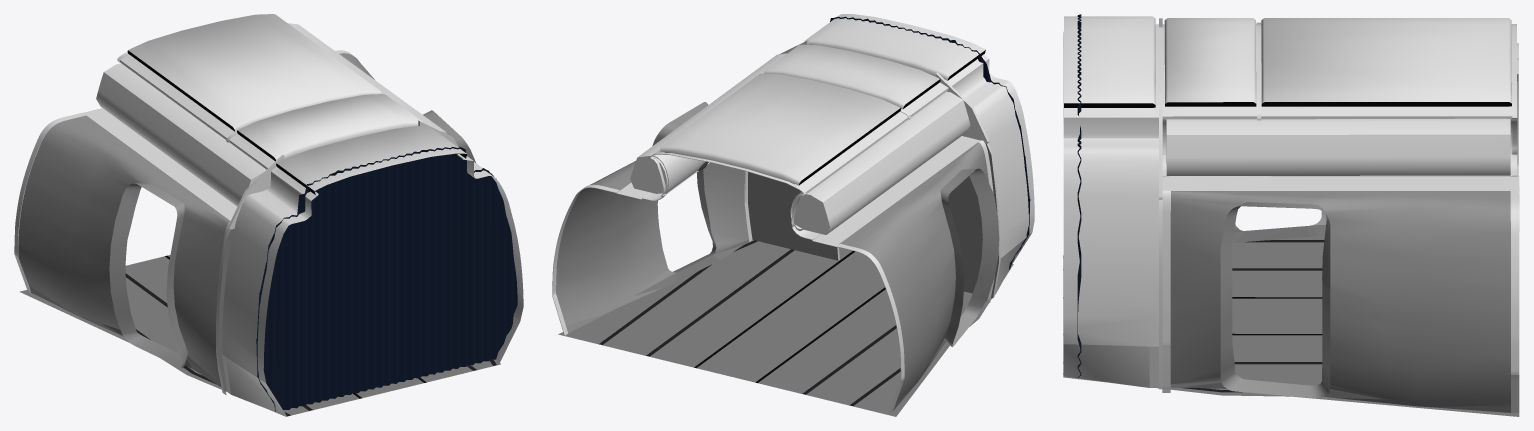
File: Modulo Porta Interno Fundo.FBX
3 renders of one model, left to right at view 1: azimuth 30°, elevation 25°; view 2: azimuth 150°, elevation 25°; view 3: azimuth 270°, elevation 25°, orthographic. The views are drawn at different scales.
Visible parts, largest first — view 1: Cortina001, Interior_Portas003, Modulo Porta Interno Fundo, interior_Cortina001, floor104, Divisoria006; view 2: Interior_Portas003, floor104, Modulo Porta Interno Fundo, interior_Cortina001, Divisoria006, GuardaVolumes107, Cortina001; view 3: Interior_Portas003, Modulo Porta Interno Fundo, interior_Cortina001, floor104, Divisoria006, Cortina001.
Boxes of the visible parts, left/top/right/bottom form: Cortina001: left=256, top=147, right=517, bottom=411; Interior_Portas003: left=14, top=14, right=446, bottom=395; Modulo Porta Interno Fundo: left=18, top=53, right=475, bottom=387; interior_Cortina001: left=222, top=126, right=523, bottom=415; floor104: left=19, top=255, right=500, bottom=416; Divisoria006: left=216, top=120, right=458, bottom=391; Interior_Portas003: left=552, top=44, right=994, bottom=414; floor104: left=558, top=240, right=1013, bottom=416; Modulo Porta Interno Fundo: left=556, top=102, right=999, bottom=410; interior_Cortina001: left=804, top=14, right=1034, bottom=294; Divisoria006: left=748, top=40, right=1000, bottom=298; GuardaVolumes107: left=653, top=155, right=708, bottom=193; Cortina001: left=830, top=16, right=1030, bottom=269; Interior_Portas003: left=1162, top=18, right=1519, bottom=412; Modulo Porta Interno Fundo: left=1162, top=190, right=1510, bottom=412; interior_Cortina001: left=1063, top=16, right=1162, bottom=387; floor104: left=1063, top=235, right=1519, bottom=416; Divisoria006: left=1159, top=18, right=1162, bottom=389; Cortina001: left=1077, top=14, right=1081, bottom=377.
Size of the model in its own units: 3810 by 2300 by 3517.
